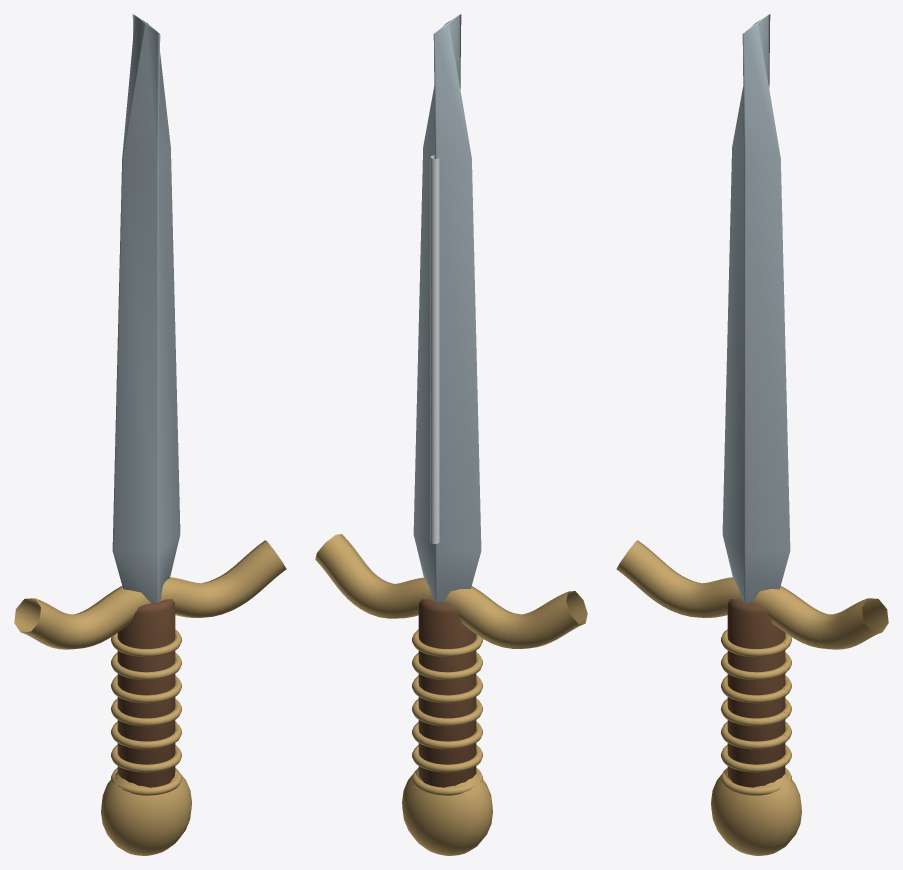
File: iron_sword.glb
3 renders of one model, left to right at view 1: azimuth 30°, elevation 25°; view 2: azimuth 150°, elevation 25°; view 3: azimuth 330°, elevation 25°, orthographic.
Visible parts, largest first — view 1: Tempered diamond edge, Swept quillons, Leather grip, Pommel, Bound grip.001, Bound grip.002, Bound grip.003, Bound grip.004, Bound grip.005, Bound grip.006, Bound grip; view 2: Tempered diamond edge, Swept quillons, Leather grip, Pommel, Inlaid fuller, Bound grip.001, Bound grip.002, Bound grip.003, Bound grip.004, Bound grip.005, Bound grip.006, Bound grip; view 3: Tempered diamond edge, Swept quillons, Leather grip, Pommel, Bound grip.001, Bound grip.002, Bound grip.003, Bound grip.004, Bound grip.005, Bound grip.006, Bound grip.
Part boxes in pixels (x1=…): Tempered diamond edge: x1=112, y1=14, x2=180, y2=603; Swept quillons: x1=14, y1=540, x2=286, y2=649; Leather grip: x1=117, y1=599, x2=175, y2=787; Pommel: x1=101, y1=768, x2=191, y2=855; Bound grip.001: x1=111, y1=745, x2=181, y2=772; Bound grip.002: x1=111, y1=722, x2=181, y2=749; Bound grip.003: x1=111, y1=698, x2=181, y2=726; Bound grip.004: x1=111, y1=675, x2=181, y2=703; Bound grip.005: x1=111, y1=652, x2=181, y2=679; Bound grip.006: x1=111, y1=629, x2=181, y2=656; Bound grip: x1=111, y1=768, x2=182, y2=795; Tempered diamond edge: x1=413, y1=14, x2=481, y2=603; Swept quillons: x1=315, y1=534, x2=587, y2=648; Leather grip: x1=418, y1=599, x2=476, y2=787; Pommel: x1=402, y1=768, x2=492, y2=855; Inlaid fuller: x1=430, y1=155, x2=439, y2=543; Bound grip.001: x1=412, y1=745, x2=482, y2=772; Bound grip.002: x1=412, y1=722, x2=482, y2=749; Bound grip.003: x1=412, y1=698, x2=482, y2=726; Bound grip.004: x1=412, y1=675, x2=482, y2=703; Bound grip.005: x1=412, y1=652, x2=482, y2=679; Bound grip.006: x1=412, y1=629, x2=482, y2=656; Bound grip: x1=412, y1=768, x2=482, y2=795; Tempered diamond edge: x1=722, y1=14, x2=790, y2=603; Swept quillons: x1=616, y1=540, x2=888, y2=649; Leather grip: x1=727, y1=599, x2=785, y2=787; Pommel: x1=711, y1=768, x2=801, y2=855; Bound grip.001: x1=721, y1=745, x2=791, y2=772; Bound grip.002: x1=721, y1=722, x2=791, y2=749; Bound grip.003: x1=721, y1=698, x2=791, y2=726; Bound grip.004: x1=721, y1=675, x2=791, y2=703; Bound grip.005: x1=721, y1=652, x2=791, y2=679; Bound grip.006: x1=721, y1=629, x2=791, y2=656; Bound grip: x1=720, y1=768, x2=791, y2=795.
Size of the model in its own units: 0.5744 by 1.72 by 0.15.
